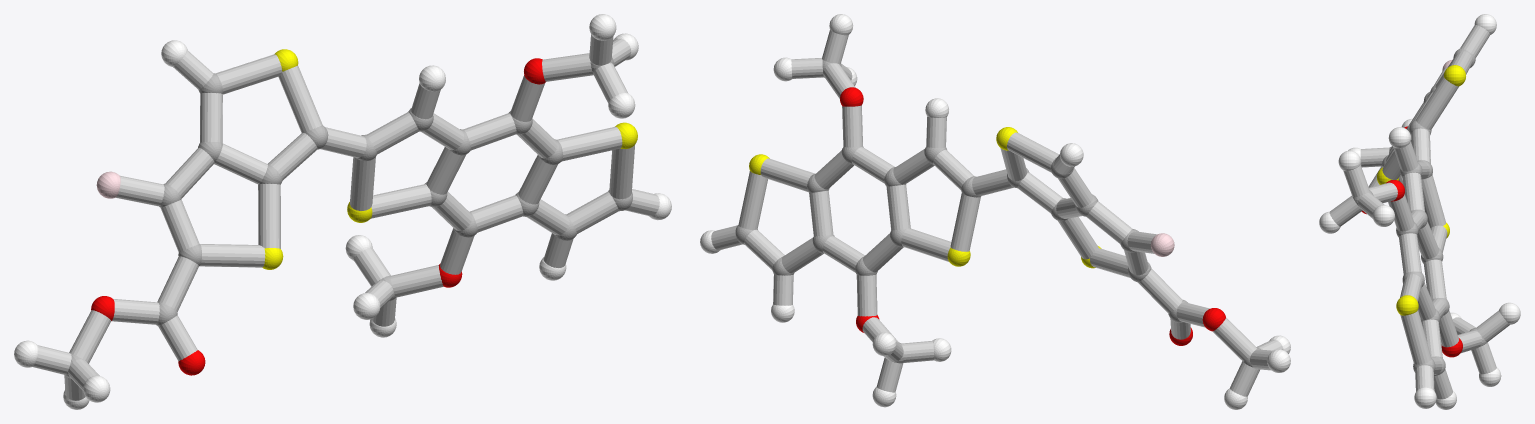
Rendered from Dimethoxy_Benzodithiophene_Phi_25_Theta_40_Methylcarbonyl_3_Fluoro_Thienothiophene.glb.
3 renders of one model, left to right at view 1: azimuth 30°, elevation 25°; view 2: azimuth 150°, elevation 25°; view 3: azimuth 270°, elevation 25°, orthographic. The views are drawn at different scales.
Visible parts, largest first — view 1: grp15205, grp8689, grp1, grp13395, grp7241; view 2: grp15205, grp8689, grp1, grp13395, grp7241; view 3: grp15205, grp8689, grp1, grp7241, grp13395.
Part boxes in pixels (x1,y1,x2,y2): grp15205: (32,34,659,400); grp8689: (14,14,671,409); grp1: (65,57,632,378); grp13395: (91,58,545,375); grp7241: (262,49,637,269); grp15205: (711,30,1283,396); grp8689: (700,14,1290,409); grp1: (735,60,1260,367); grp13395: (840,87,1225,345); grp7241: (749,127,1101,268); grp15205: (1329,25,1509,399); grp8689: (1319,14,1520,409); grp1: (1353,48,1486,375); grp7241: (1377,65,1465,315); grp13395: (1361,126,1462,357).
Bounding box in the file's own units: 16.88 × 8.54 × 5.41.
